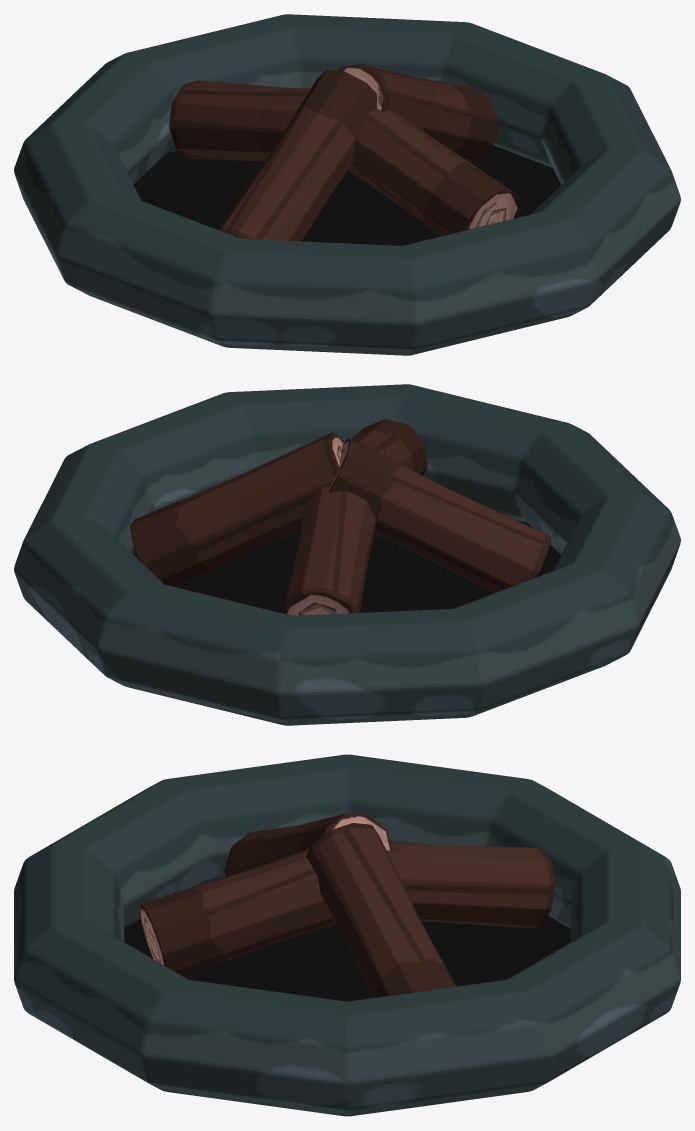
The model's file is fire.obj.
3 views of the same model, one above another, from view 1: azimuth 30°, elevation 25°; view 2: azimuth 150°, elevation 25°; view 3: azimuth 270°, elevation 25° (orthographic). The views are drawn at different scales.
Parts seen in each view (by area): view 1: fire pTorus1, fire pDisc1, fire pCylinder4, fire pCylinder1, pCylinder3 fire, fire pCylinder2; view 2: fire pTorus1, fire pCylinder2, fire pCylinder4, fire pDisc1, pCylinder3 fire, fire pCylinder1; view 3: fire pTorus1, fire pDisc1, fire pCylinder1, fire pCylinder2, pCylinder3 fire, fire pCylinder4.
Boxes of the visible parts, left/top/right/bottom form: fire pTorus1: left=14, top=14, right=680, bottom=355; fire pDisc1: left=134, top=145, right=560, bottom=245; fire pCylinder4: left=218, top=70, right=376, bottom=241; fire pCylinder1: left=348, top=108, right=518, bottom=236; pCylinder3 fire: left=169, top=80, right=310, bottom=161; fire pCylinder2: left=337, top=63, right=498, bottom=162; fire pTorus1: left=14, top=384, right=680, bottom=725; fire pCylinder2: left=130, top=432, right=344, bottom=586; fire pCylinder4: left=329, top=438, right=551, bottom=592; fire pDisc1: left=134, top=521, right=560, bottom=613; pCylinder3 fire: left=283, top=486, right=376, bottom=615; fire pCylinder1: left=352, top=419, right=427, bottom=475; fire pTorus1: left=14, top=754, right=680, bottom=1116; fire pDisc1: left=124, top=916, right=570, bottom=1001; fire pCylinder1: left=139, top=848, right=336, bottom=976; fire pCylinder2: left=306, top=823, right=456, bottom=997; pCylinder3 fire: left=386, top=842, right=554, bottom=928; fire pCylinder4: left=224, top=813, right=393, bottom=876.
Bounding box in the file's own units: 26.67 × 7.18 × 25.4.
3 materials, 2 textured.
